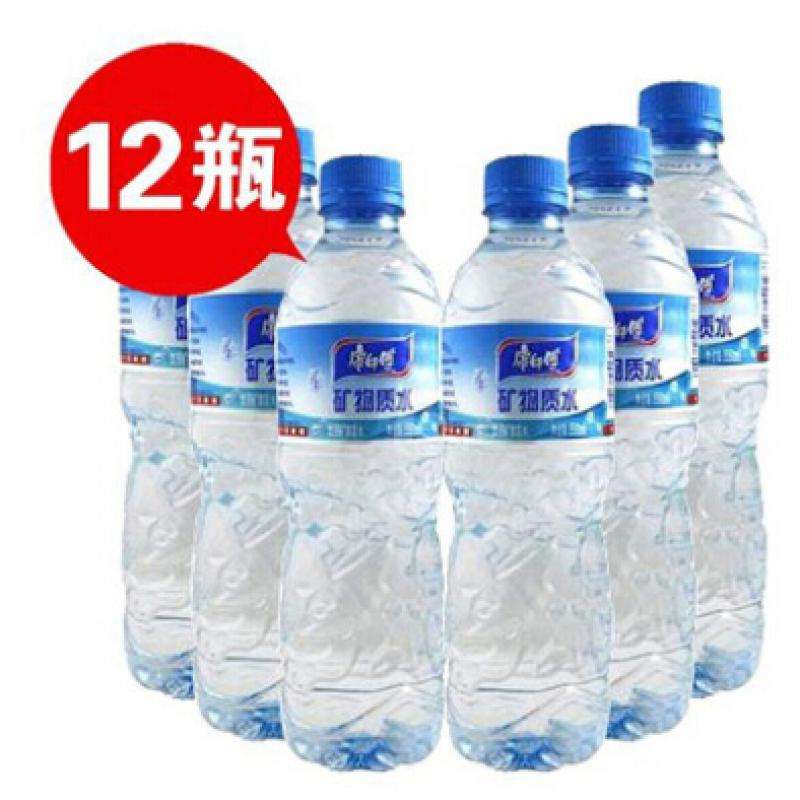amwater: (49, 32, 780, 776)
